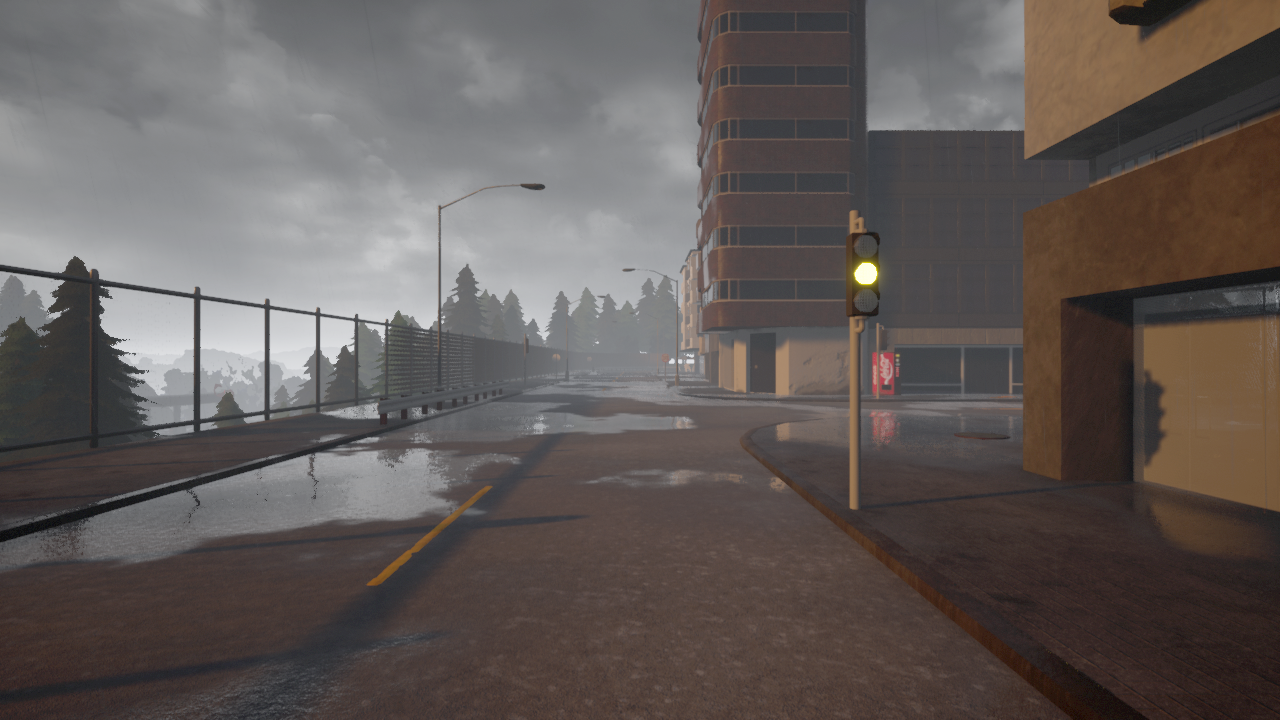yellow: (845, 231, 886, 319)
